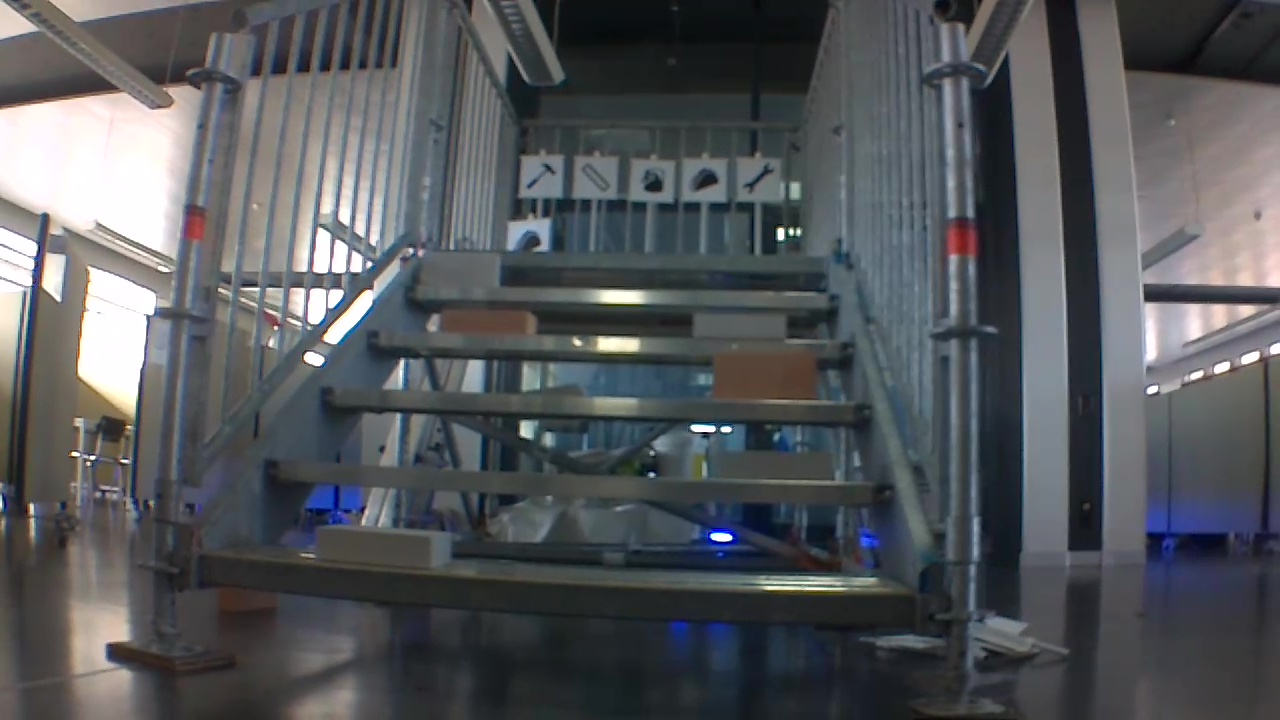brick: (295, 528, 454, 564), (714, 354, 812, 398), (707, 450, 834, 478), (414, 254, 504, 284), (429, 312, 543, 334), (692, 314, 786, 338)
bucket: (642, 165, 667, 192)
edge: (197, 556, 915, 635), (265, 458, 888, 508), (321, 384, 871, 428), (369, 328, 850, 358), (405, 285, 837, 307), (435, 252, 825, 262)
hammer: (523, 162, 556, 193)
ruler: (579, 162, 610, 192)
stairs: (167, 0, 960, 713)
steps: (176, 255, 941, 624)
taco: (692, 165, 720, 197), (516, 225, 543, 251)
wrench: (743, 165, 776, 192)
